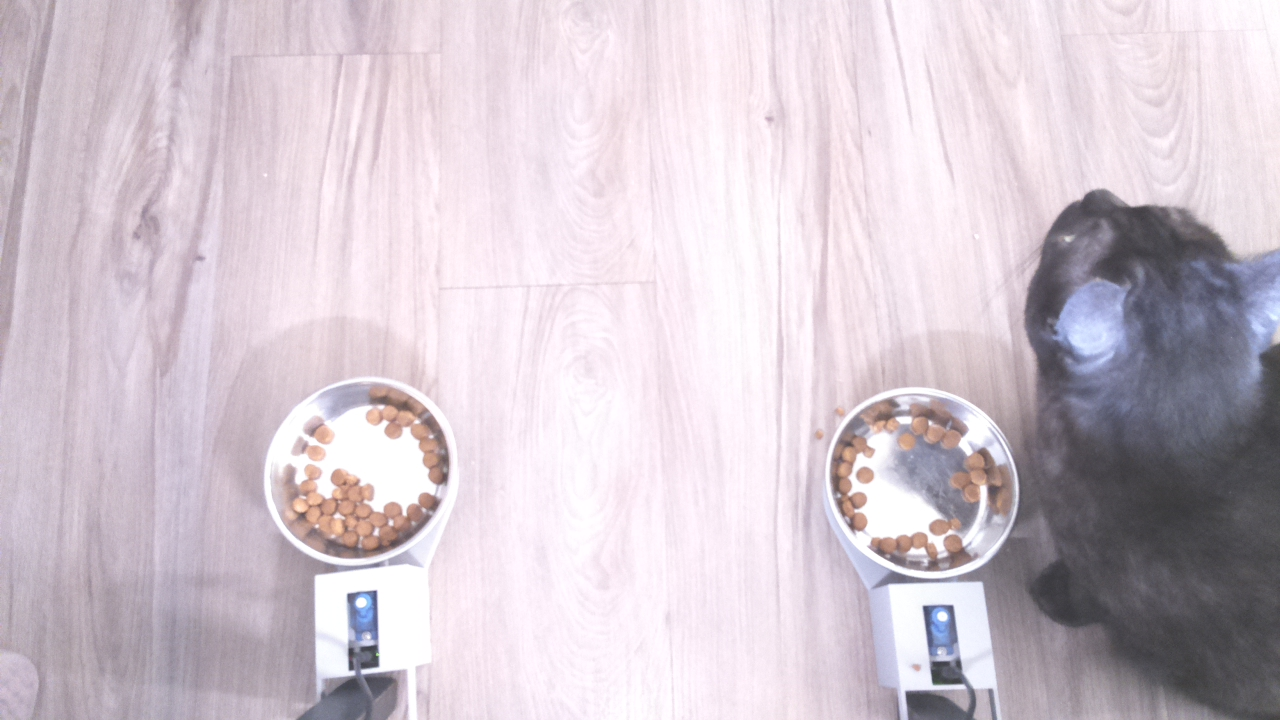open_bowl: (258, 373, 470, 573), (823, 382, 1016, 585)
saki: (1007, 170, 1280, 404)
